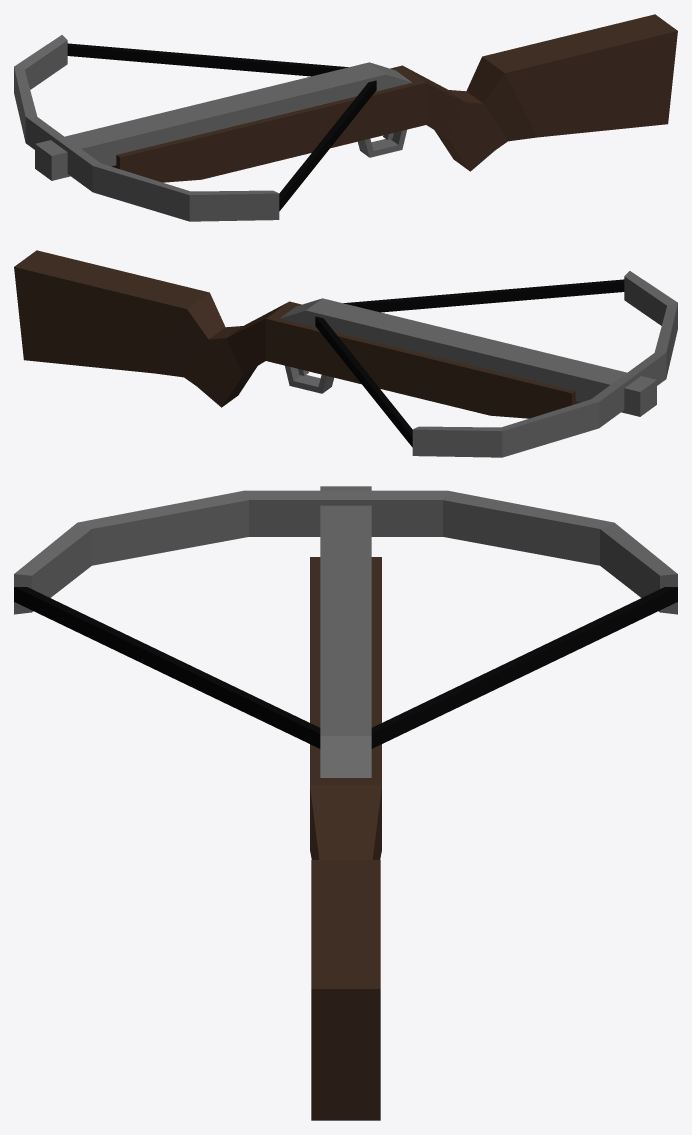
File: crossbow.fbx
3 renders of one model, top to bottom at view 1: azimuth 30°, elevation 25°; view 2: azimuth 150°, elevation 25°; view 3: azimuth 270°, elevation 25°, orthographic. The views are drawn at different scales.
Parts seen in each view (by area): view 1: Cube, Cube.001, Cylinder, Cylinder.001; view 2: Cube, Cube.001, Cylinder, Cylinder.001; view 3: Cylinder, Cube, Cube.001, Cylinder.001.
Part boxes in pixels (left/top/right/bottom): Cube: left=111, top=14, right=677, bottom=182; Cube.001: left=35, top=62, right=411, bottom=180; Cylinder: left=14, top=35, right=279, bottom=221; Cylinder.001: left=67, top=43, right=376, bottom=211; Cube: left=14, top=250, right=580, bottom=418; Cube.001: left=280, top=298, right=656, bottom=416; Cylinder: left=412, top=271, right=677, bottom=457; Cylinder.001: left=315, top=279, right=624, bottom=447; Cylinder: left=14, top=490, right=677, bottom=614; Cube: left=310, top=557, right=381, bottom=1120; Cube.001: left=320, top=486, right=371, bottom=777; Cylinder.001: left=14, top=587, right=677, bottom=748.
Bounding box in the file's own units: 146 × 27.35 × 87.86.
